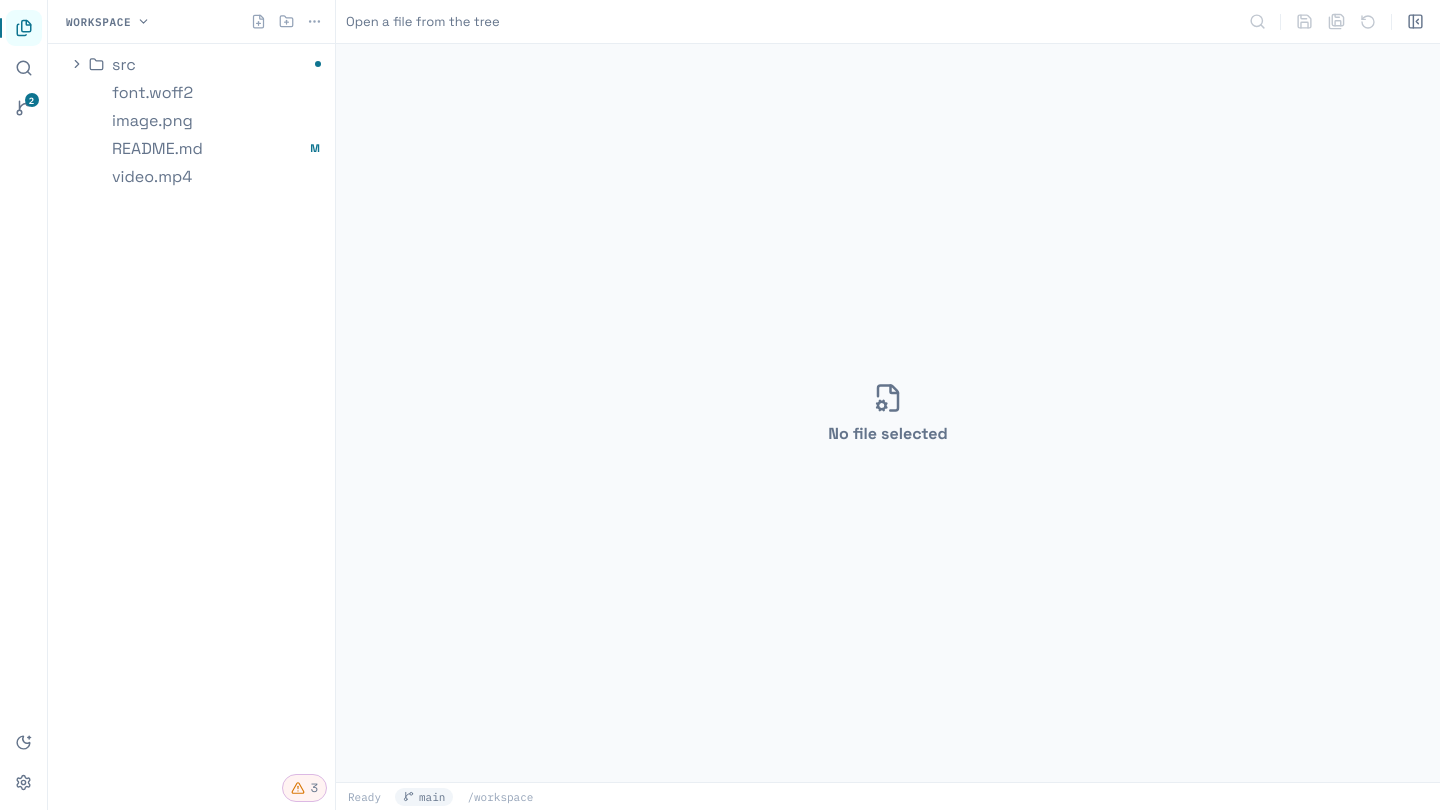
Test case: App shell interactions › surfaces bounded initial scans as a compact sidebar status and opens performance settings
The width and height of the screenshot is (1440, 810).
Expected: the list item "README.md" is shown, 64,134 -> 327,162
Click the button named "Initial scan reached 3 entries. Open Performance settings.": (304, 788) 282,774 -> 327,802
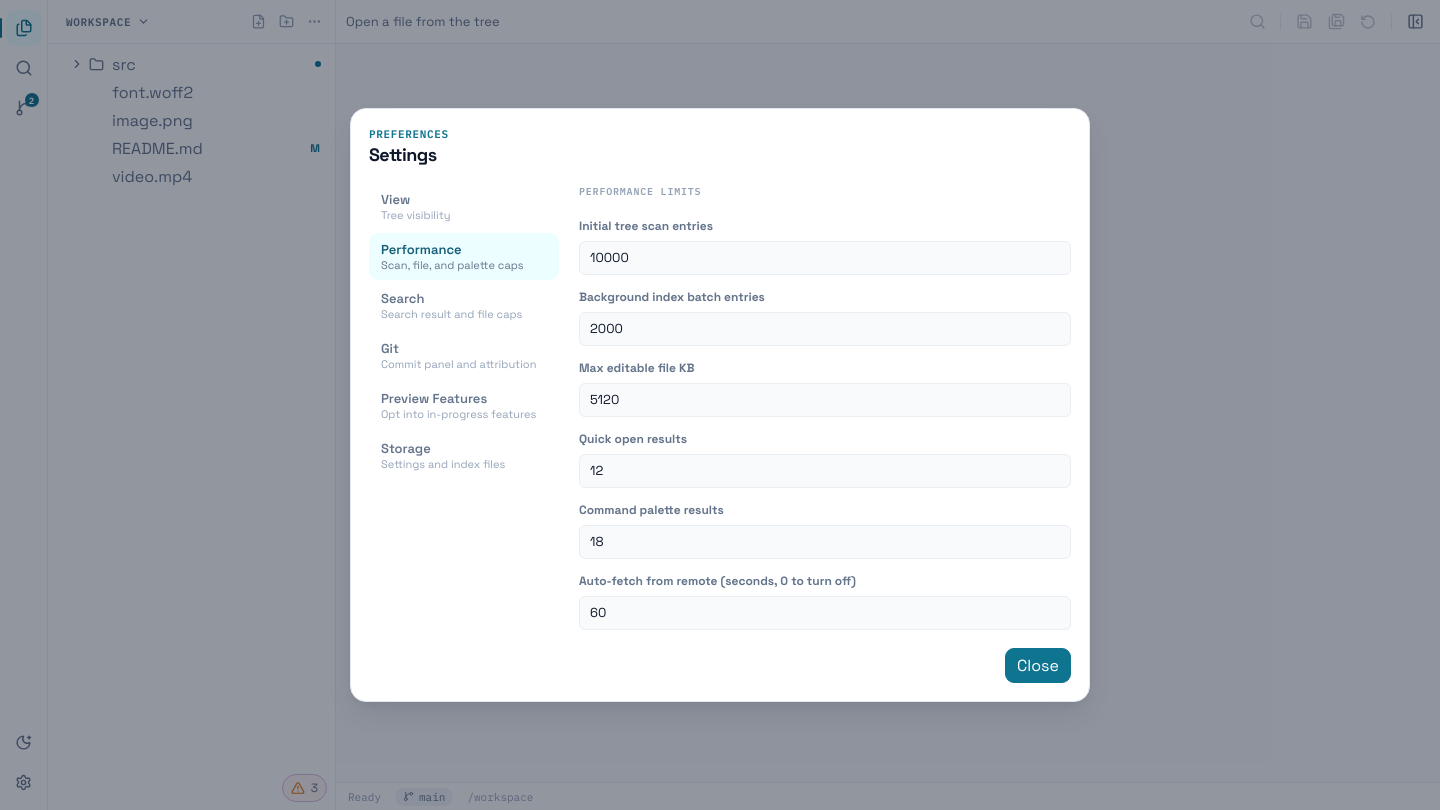
Expected: the dialog "Settings" is shown, 350,108 -> 1090,702
Expected: the number field labelled "Initial tree scan entries" is shown, 579,241 -> 1071,275
